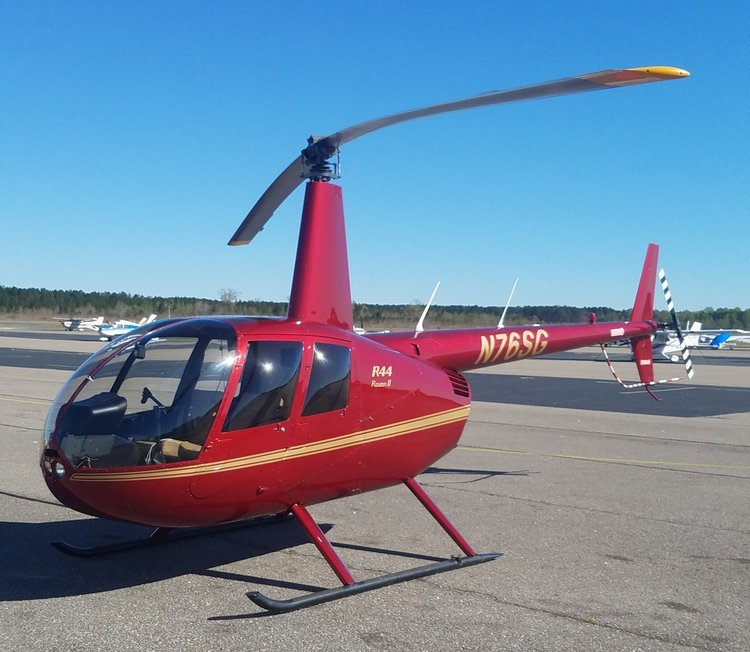Helicopter: (49, 67, 687, 586)
